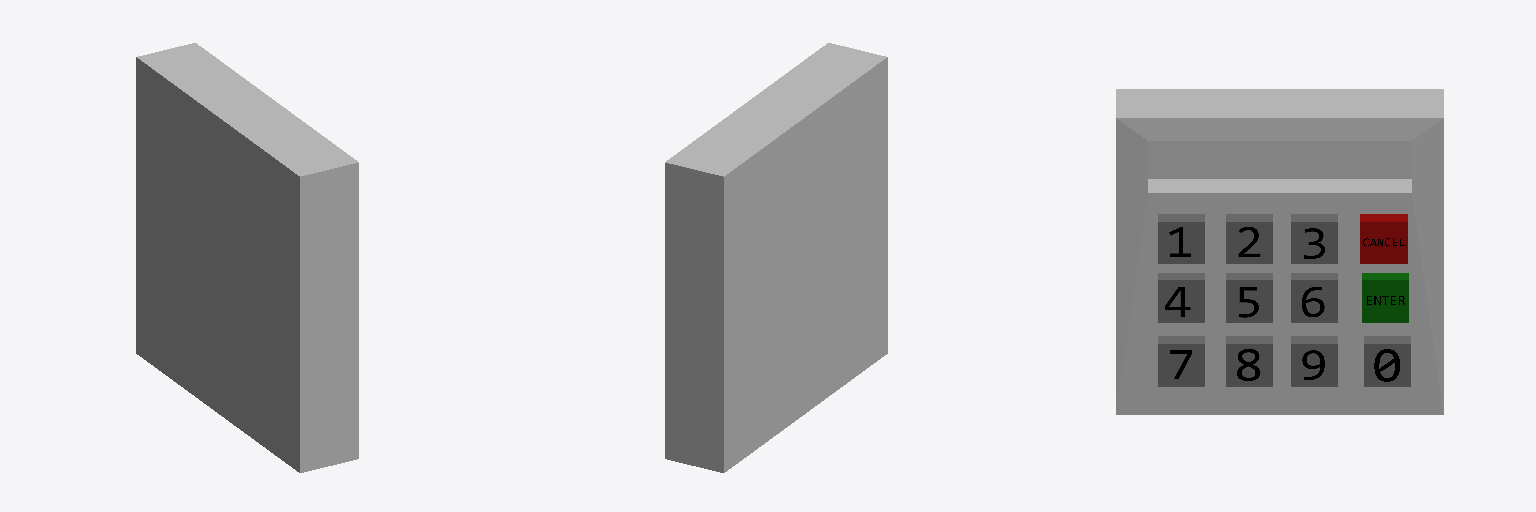
3 renders of one model, left to right at view 1: azimuth 30°, elevation 25°; view 2: azimuth 150°, elevation 25°; view 3: azimuth 270°, elevation 25°, orthographic.
Visible parts, largest first — view 1: Cube; view 2: Cube; view 3: Cube, Cubo.009, Cubo.006, Cubo.007, Cubo.008, Cubo.011, Cubo, Cubo.001, Cubo.002, Cubo.003, Cubo.004, Cubo.005 (+1 smaller).
Boxes of the visible parts, <box> form: Cube: <box>136,43,358,472</box>; Cube: <box>665,43,887,472</box>; Cube: <box>1116,89,1443,414</box>; Cubo.009: <box>1360,214,1407,263</box>; Cubo.006: <box>1291,336,1337,386</box>; Cubo.007: <box>1158,336,1204,386</box>; Cubo.008: <box>1226,336,1272,386</box>; Cubo.011: <box>1364,336,1410,386</box>; Cubo: <box>1226,214,1272,263</box>; Cubo.001: <box>1158,214,1204,263</box>; Cubo.002: <box>1291,214,1337,263</box>; Cubo.003: <box>1291,273,1337,322</box>; Cubo.004: <box>1158,273,1204,322</box>; Cubo.005: <box>1226,273,1272,322</box>.
Size of the model in its own units: 0.805 by 3.02 by 3.02.
13 materials, 12 textured.